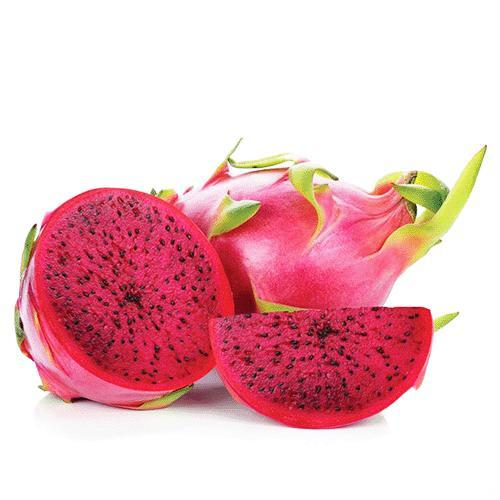dragon-fruit: (17, 184, 237, 409), (173, 166, 415, 316), (207, 304, 434, 432)
